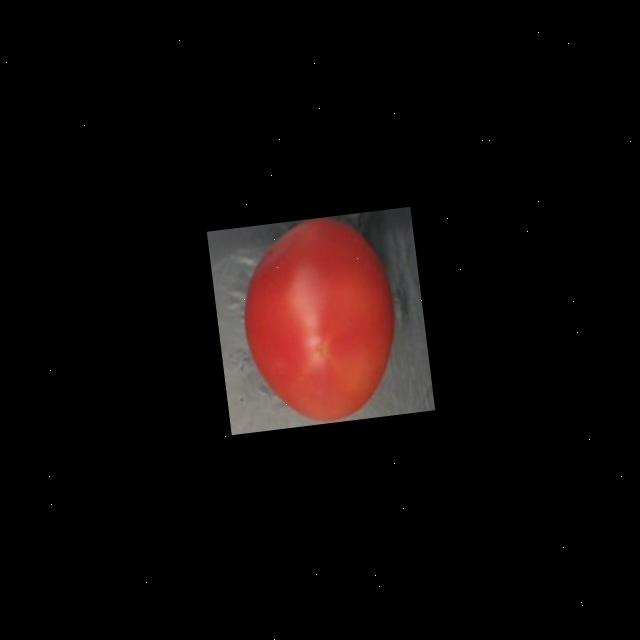tomato: (229, 210, 412, 432)
